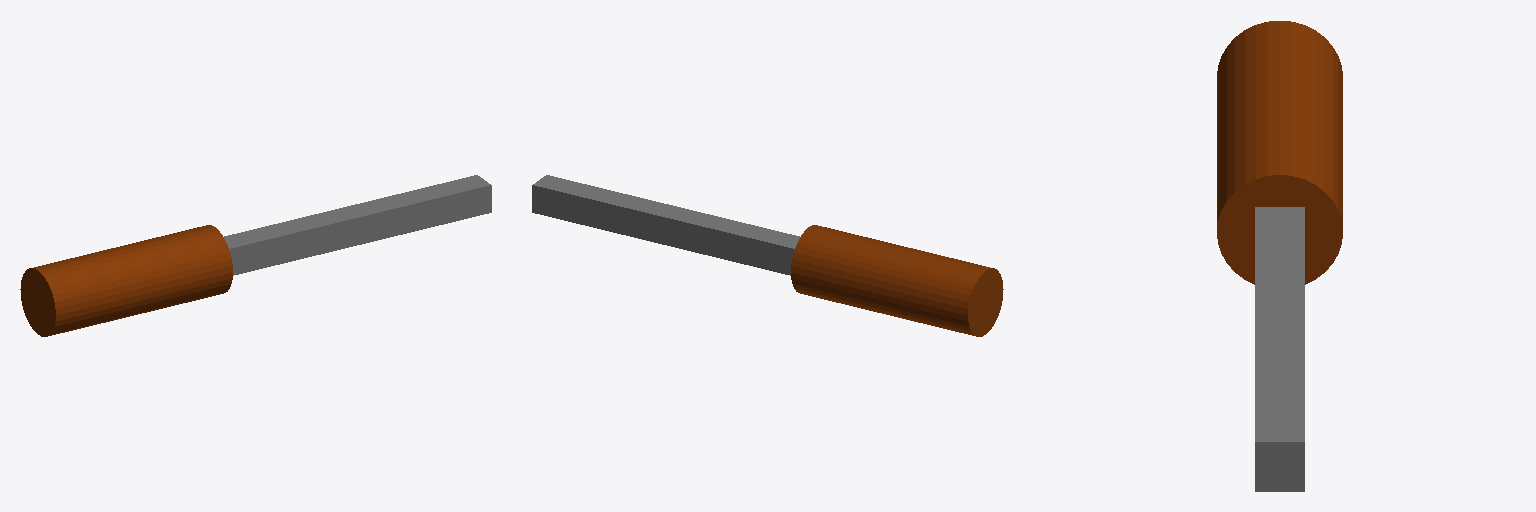
The robot description file, URDF, robot "handle_head":
<?xml version="1.0"?>
<robot name="handle_head">

  <link name="handle_head">
    <!-- Handle -->
    <visual>
              <origin xyz="0 0 0" rpy="0 -1.5707963267948966 0"/>
        <geometry>
          <cylinder length="0.08580659107891214" radius="0.0148536137653032"/>
        </geometry>
        
      <material name="brown">
        <color rgba="0.55 0.27 0.07 1.0"/>
      </material>
    </visual>
    <collision>
              <origin xyz="0 0 0" rpy="0 -1.5707963267948966 0"/>
        <geometry>
          <cylinder length="0.08580659107891214" radius="0.0148536137653032"/>
        </geometry>
        
    </collision>

    <!-- Head -->
    <visual>
              <origin xyz="0.10807333161401744 0 0" rpy="0 0 0"/>
        <geometry>
          <box size="0.13034007214912274 0.011824627492039452 0.012833292323629248"/>
        </geometry>
        
      <material name="gray">
        <color rgba="0.5 0.5 0.5 1.0"/>
      </material>
    </visual>
    <collision>
              <origin xyz="0.10807333161401744 0 0" rpy="0 0 0"/>
        <geometry>
          <box size="0.13034007214912274 0.011824627492039452 0.012833292323629248"/>
        </geometry>
        
    </collision>

    <inertial>
      <origin xyz="0.04795975810595393 0 0" rpy="0 0 0"/>
      <mass value="0.05364839811487515"/>
      <inertia ixx="3.7725727402974245e-06" iyy="0.00021838334786297833" izz="0.00021833400353122985" ixy="0" ixz="0" iyz="0"/>
    </inertial>
  </link>

</robot>

--- Render facts (derived) ---
3 views of the same robot in one strip: view 1: azimuth 30°, elevation 25°; view 2: azimuth 150°, elevation 25°; view 3: azimuth 270°, elevation 25° (orthographic).
Robot: handle_head — 1 links, 0 joints (none); root link handle_head; default pose: every joint at zero.
Visible links, largest first — view 1: handle_head; view 2: handle_head; view 3: handle_head.
Boxes of the visible links, x1,y1,x2,y2 form: handle_head: [20, 175, 491, 336]; handle_head: [532, 175, 1003, 336]; handle_head: [1217, 21, 1342, 491].
Size in the robot's own frame: 0.2161 by 0.0297 by 0.0297 metres.
Geometry: primitives only (box / cylinder / sphere), no mesh files.
